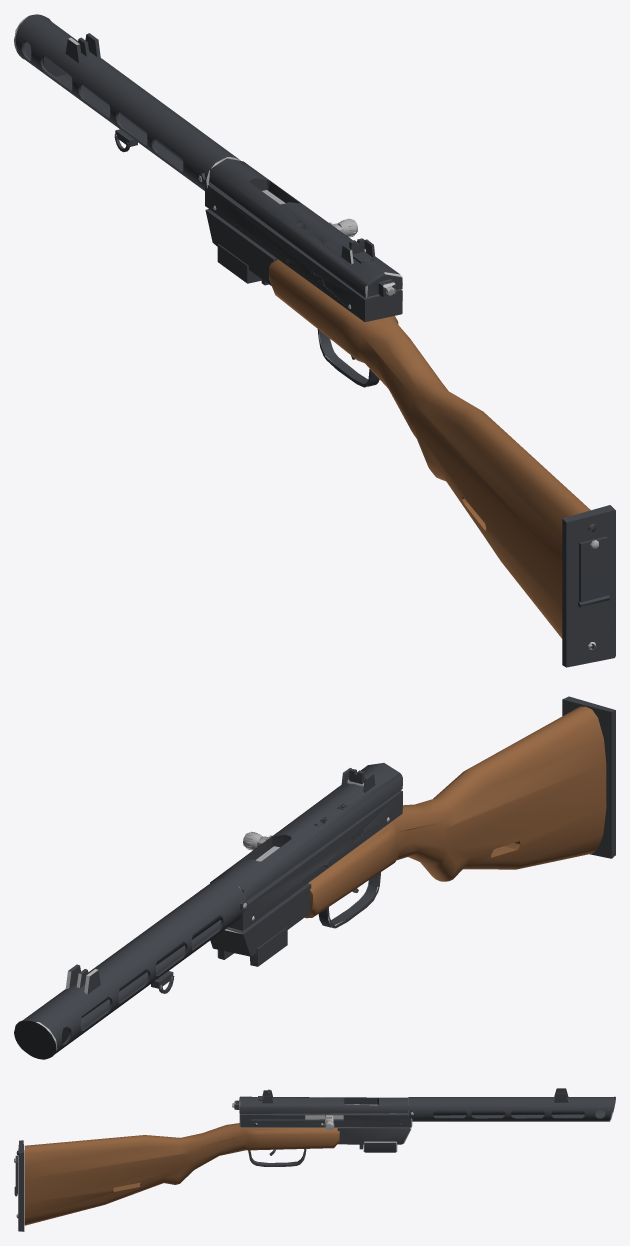
Rendered from ppsh_lod1.glb.
3 views of the same model, one above another, from view 1: azimuth 30°, elevation 25°; view 2: azimuth 150°, elevation 25°; view 3: azimuth 270°, elevation 25° (orthographic). The views are drawn at different scales.
Visible parts, largest first — view 1: Blued, Wood; view 2: Blued, Wood, Steel, Worn; view 3: Wood, Blued, Worn, Steel.
Boxes of the visible parts, bbox=[...] form: Blued: bbox=[15, 14, 615, 667]; Wood: bbox=[269, 259, 590, 638]; Blued: bbox=[14, 696, 615, 1059]; Wood: bbox=[305, 706, 606, 918]; Steel: bbox=[243, 779, 363, 908]; Worn: bbox=[14, 817, 389, 1050]; Wood: bbox=[24, 1123, 339, 1225]; Blued: bbox=[14, 1088, 615, 1231]; Worn: bbox=[17, 1088, 612, 1231]; Steel: bbox=[14, 1103, 413, 1162].
Bounding box in the file's own units: 0.069 × 0.2096 × 0.8486.
